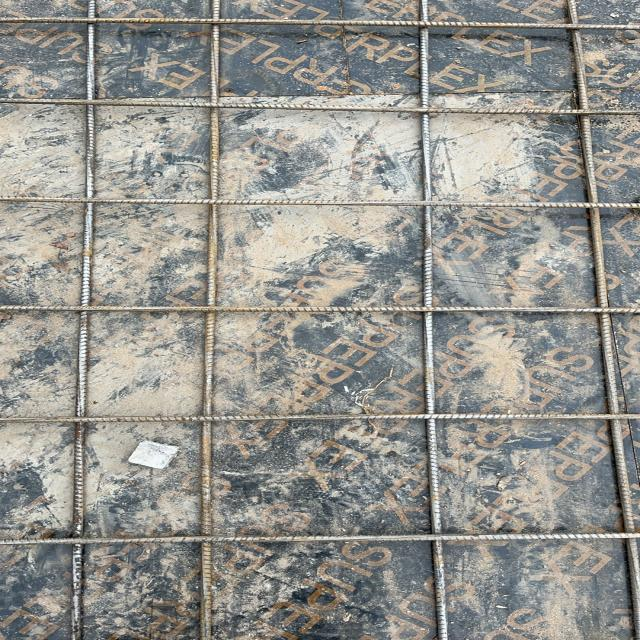ribbed bar: (563, 0, 638, 638), (413, 0, 449, 639), (67, 0, 98, 639), (197, 0, 222, 639), (0, 96, 639, 117), (0, 195, 639, 210), (0, 16, 639, 30), (0, 531, 639, 545), (0, 303, 639, 315), (0, 414, 639, 423)
